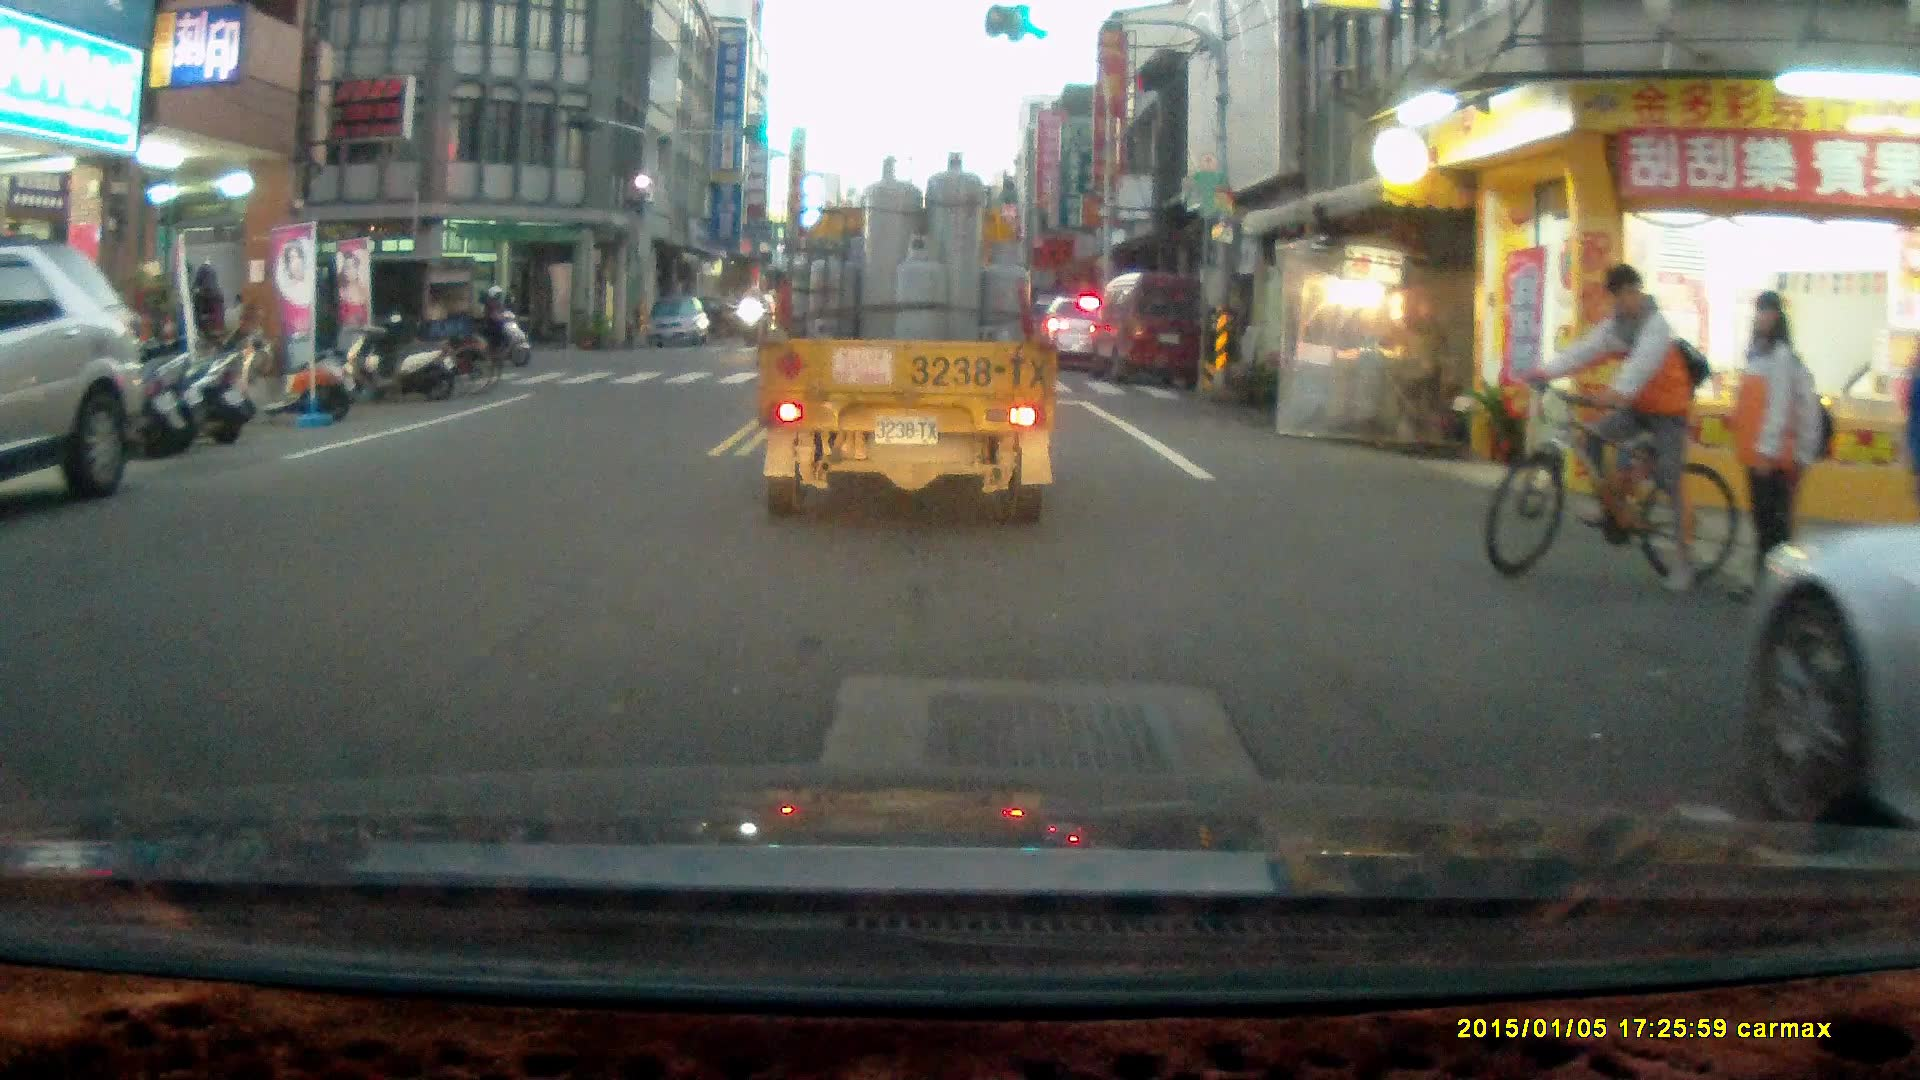pedestrian: (1725, 288, 1803, 604), (190, 263, 226, 373)
rider: (1485, 264, 1737, 597), (460, 282, 527, 370)
vehicle: (753, 161, 1043, 521), (1735, 531, 1920, 828), (1, 238, 151, 504), (308, 247, 486, 369), (1090, 270, 1211, 388), (1041, 293, 1110, 368), (644, 295, 713, 350)
